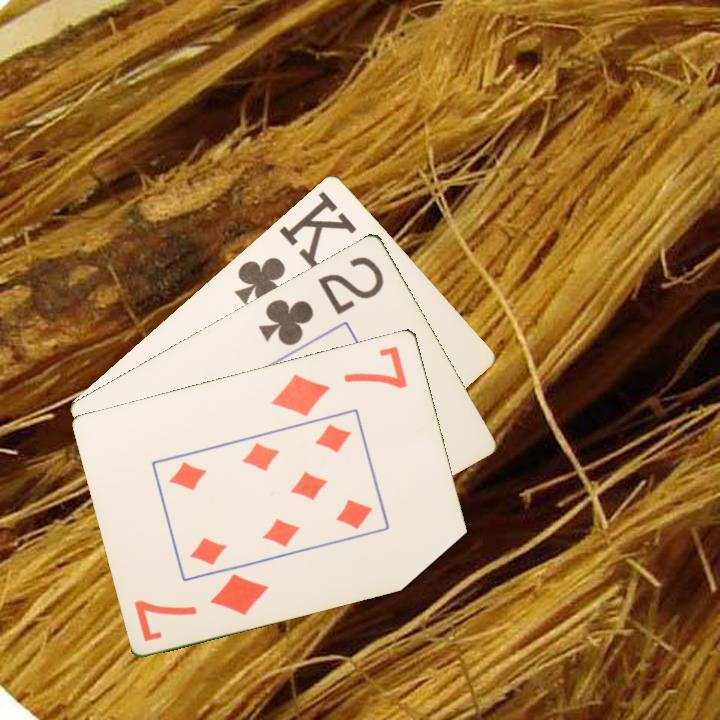2c: (255, 252, 387, 349)
7d: (268, 341, 411, 419), (131, 569, 272, 644)
Kc: (230, 186, 359, 307)
